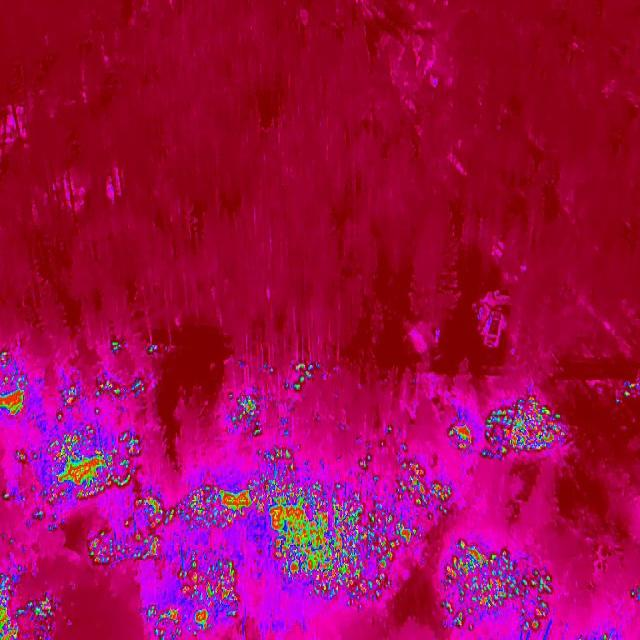fire: (136, 455, 450, 630), (0, 410, 142, 526), (433, 532, 562, 638), (478, 390, 580, 464), (0, 571, 63, 640), (56, 373, 150, 415), (223, 384, 275, 436), (84, 527, 134, 572), (0, 348, 28, 420), (282, 354, 328, 394), (142, 602, 182, 640), (611, 372, 640, 412), (379, 424, 412, 454), (110, 338, 162, 357), (448, 420, 476, 454), (591, 627, 617, 640), (630, 577, 640, 605)
